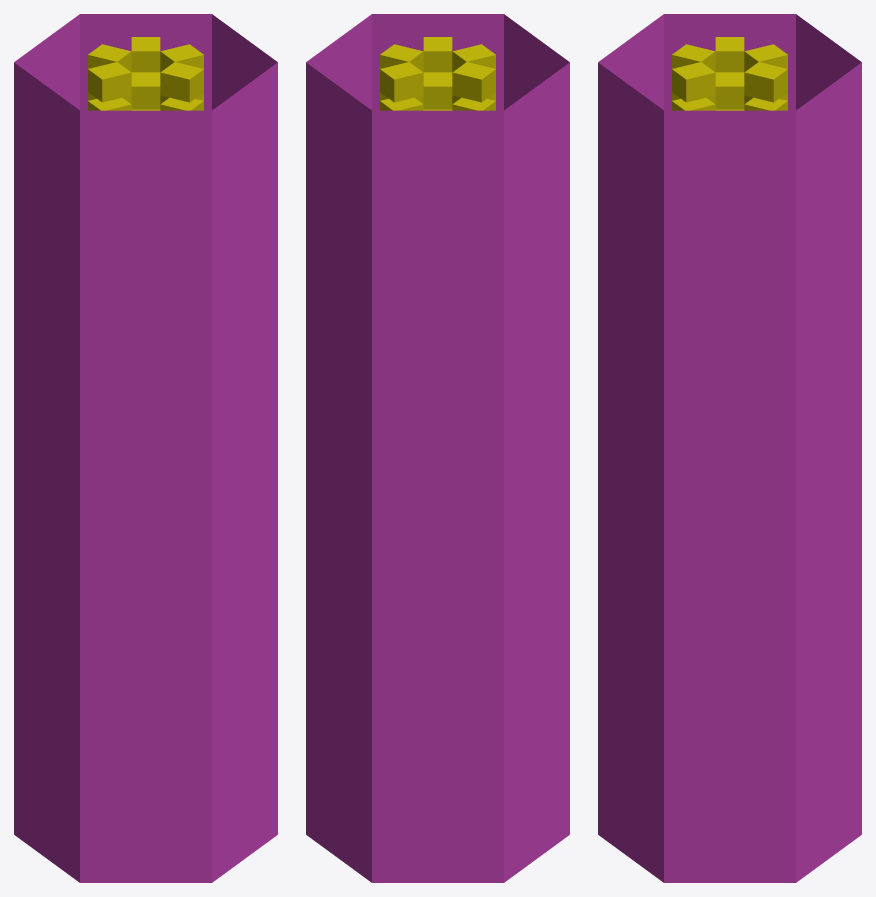
3 views of the same model, side by side, from view 1: azimuth 30°, elevation 25°; view 2: azimuth 150°, elevation 25°; view 3: azimuth 270°, elevation 25° (orthographic).
Visible parts, largest first — view 1: Cylinder_003, Cylinder_017, Cylinder_016; view 2: Cylinder_003, Cylinder_017, Cylinder_016; view 3: Cylinder_003, Cylinder_017, Cylinder_016.
Part boxes in pixels (x1,y1,x2,y2): Cylinder_003: (14, 14, 277, 882); Cylinder_017: (88, 37, 203, 109); Cylinder_016: (88, 92, 203, 110); Cylinder_003: (306, 14, 569, 882); Cylinder_017: (380, 37, 495, 109); Cylinder_016: (380, 92, 495, 110); Cylinder_003: (598, 14, 861, 882); Cylinder_017: (672, 37, 787, 109); Cylinder_016: (672, 92, 787, 110).
Size of the model in its own units: 12.99 by 15 by 48.46.
